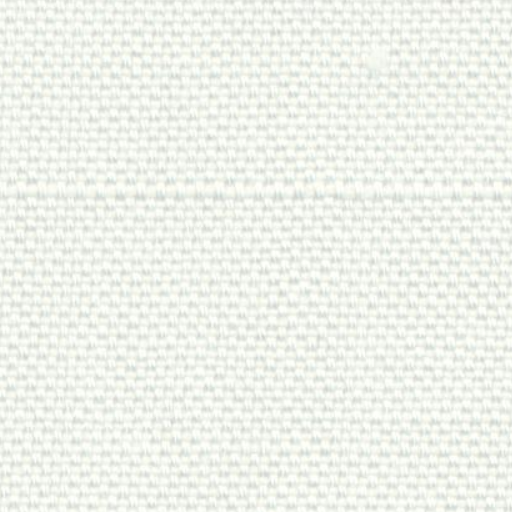TuoSha: (12, 151, 496, 227)
